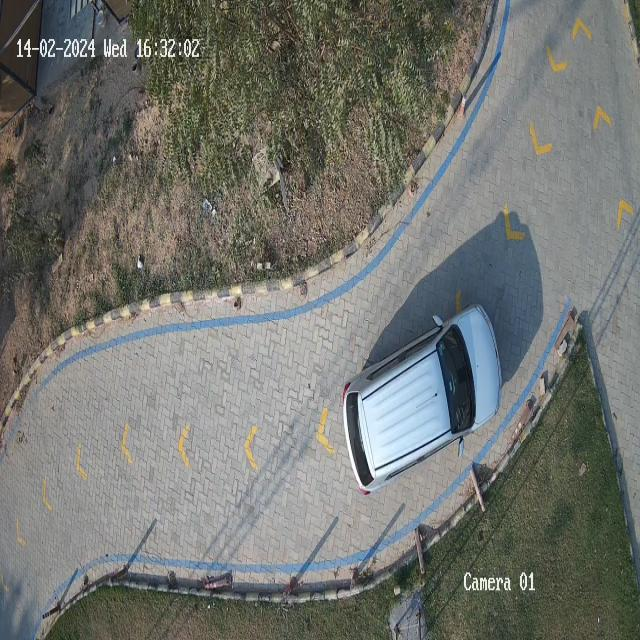car: (342, 301, 503, 496)
